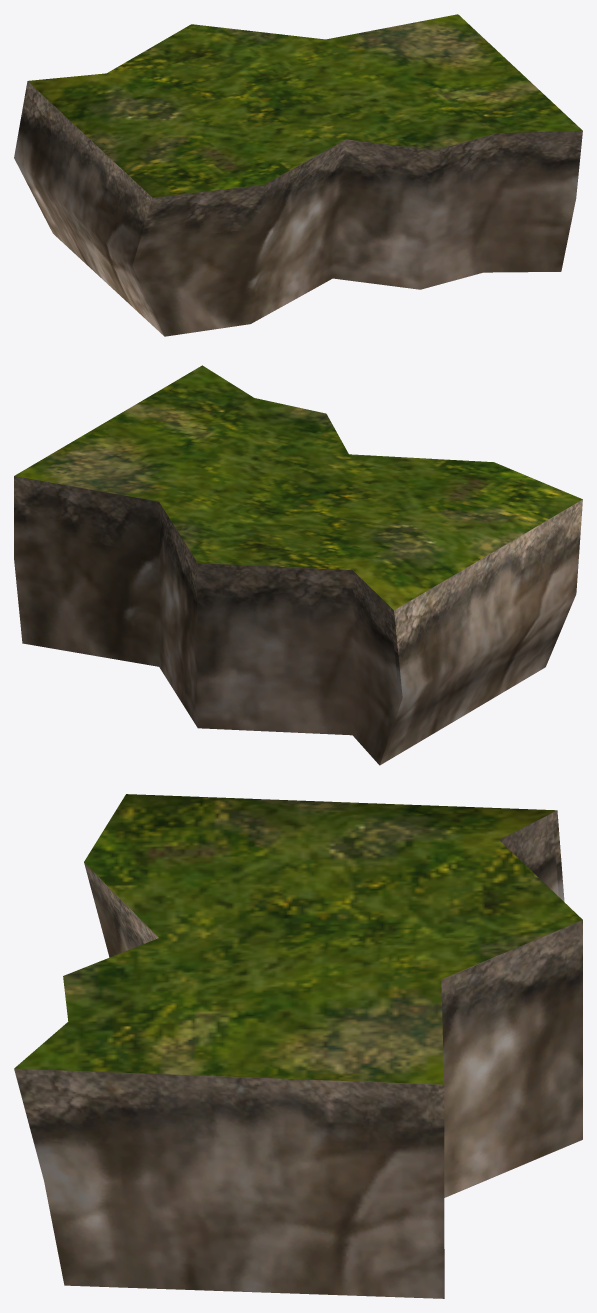
The model's file is ANIMATEDINSTANCES_BAT_ROCKFALL_03__BA.fbx.
3 views of the same model, one above another, from view 1: azimuth 30°, elevation 25°; view 2: azimuth 150°, elevation 25°; view 3: azimuth 270°, elevation 25° (orthographic). The views are drawn at different scales.
Parts seen in each view (by area): view 1: ANIMATEDINSTANCES_BAT_ROCKFALL_03__BA; view 2: ANIMATEDINSTANCES_BAT_ROCKFALL_03__BA; view 3: ANIMATEDINSTANCES_BAT_ROCKFALL_03__BA.
Part boxes in pixels (x1,y1,x2,y2): ANIMATEDINSTANCES_BAT_ROCKFALL_03__BA: (14, 14, 582, 336); ANIMATEDINSTANCES_BAT_ROCKFALL_03__BA: (14, 365, 582, 765); ANIMATEDINSTANCES_BAT_ROCKFALL_03__BA: (14, 794, 582, 1298).
Size of the model in its own units: 12456 by 4554 by 10086.
3 materials, 3 textured.
